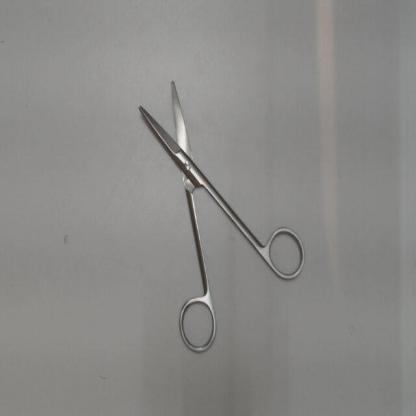Curved Mayo Scissors: (126, 64, 310, 359)
